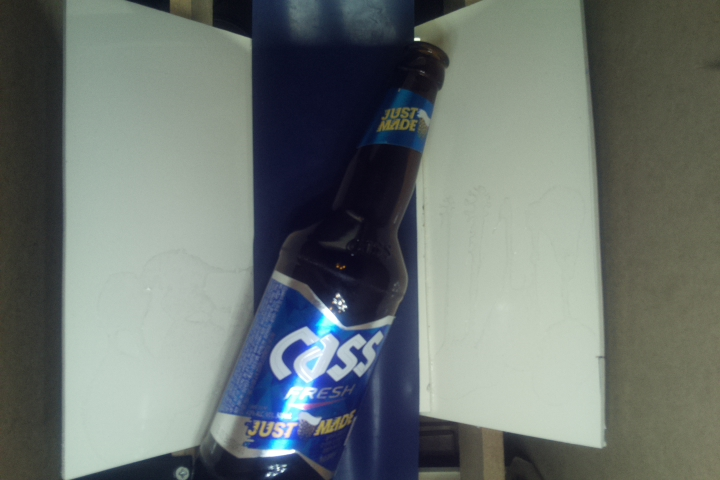makju: (188, 42, 449, 480)
